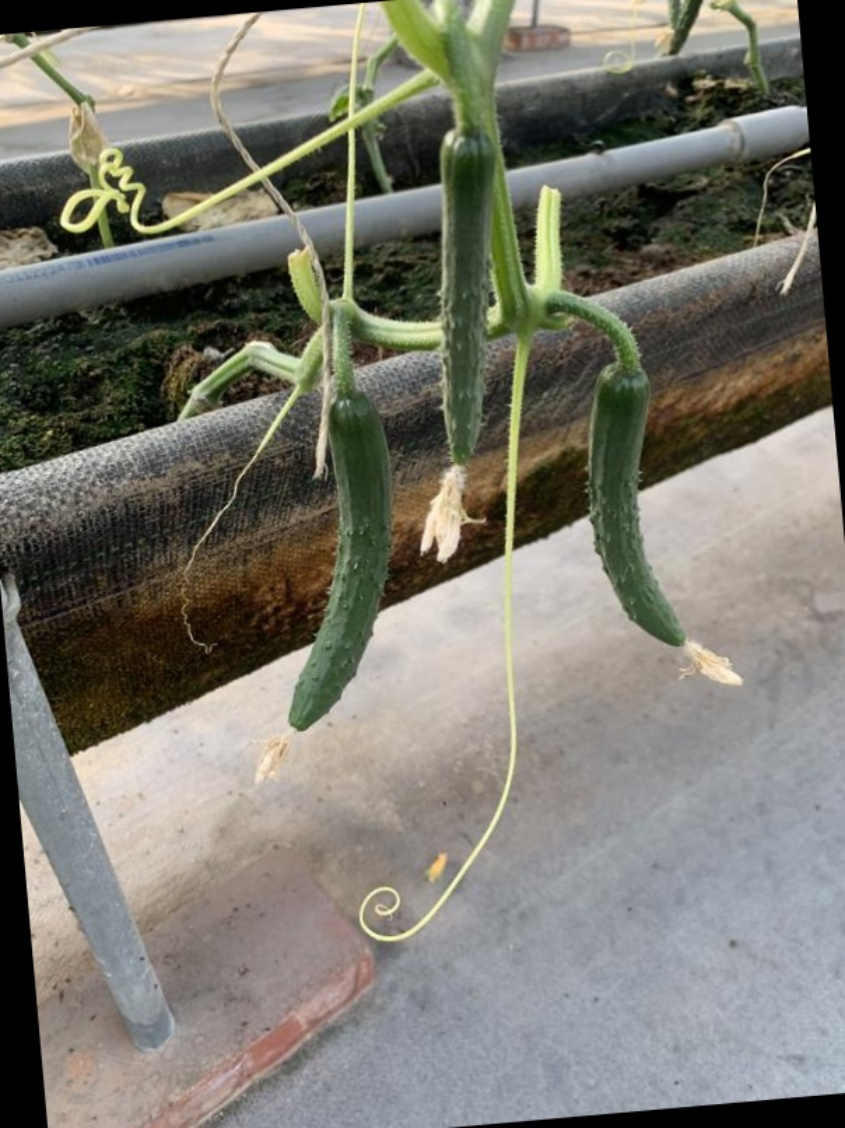growth: (583, 356, 701, 667)
